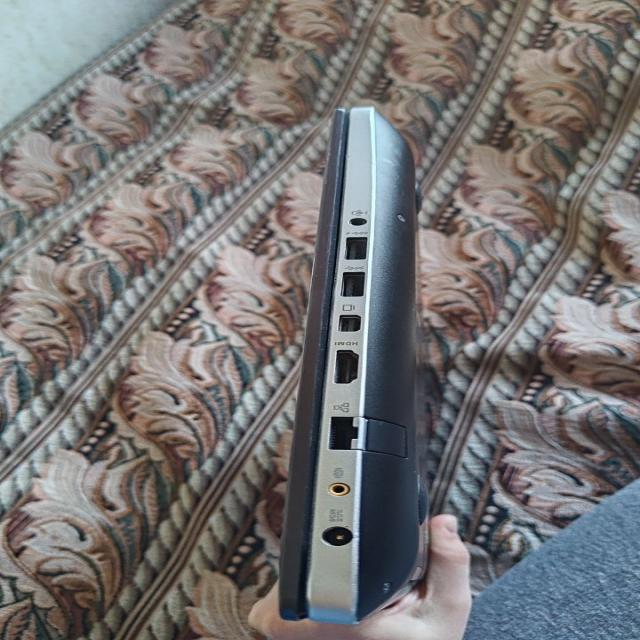lock: (324, 411, 428, 463)
